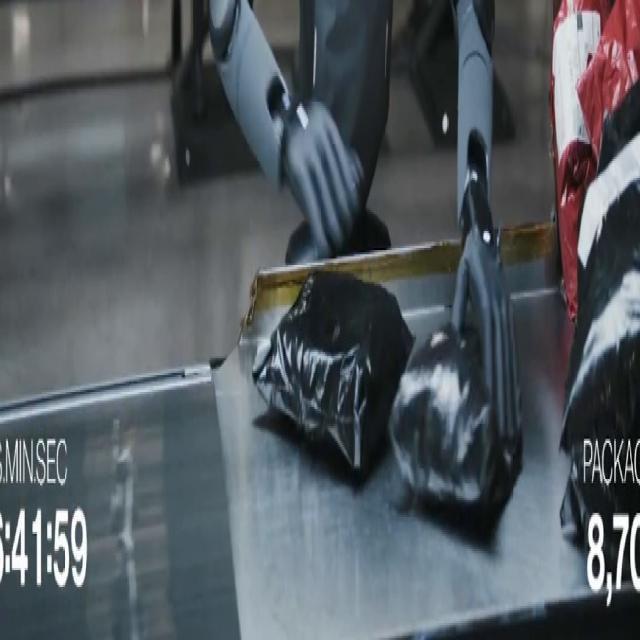package: (561, 90, 639, 567), (253, 272, 413, 472), (390, 325, 521, 514), (550, 0, 610, 319), (578, 0, 639, 158), (579, 151, 634, 298)
